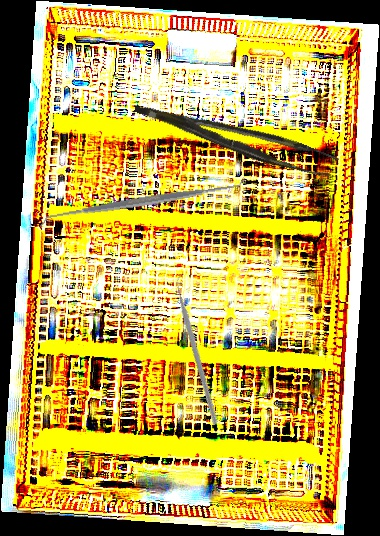Chopper: (121, 270, 278, 426)
Spatula Surgical: (36, 174, 248, 230)
Tissue Forceps: (133, 80, 340, 190)
